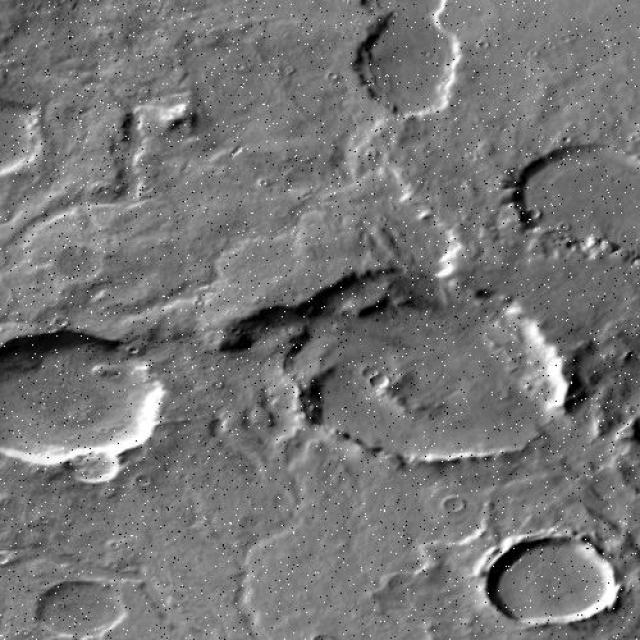crater: (0, 342, 220, 640), (0, 325, 165, 474), (400, 0, 640, 101), (0, 0, 180, 124), (0, 0, 123, 160), (478, 519, 624, 640), (0, 0, 124, 90)
